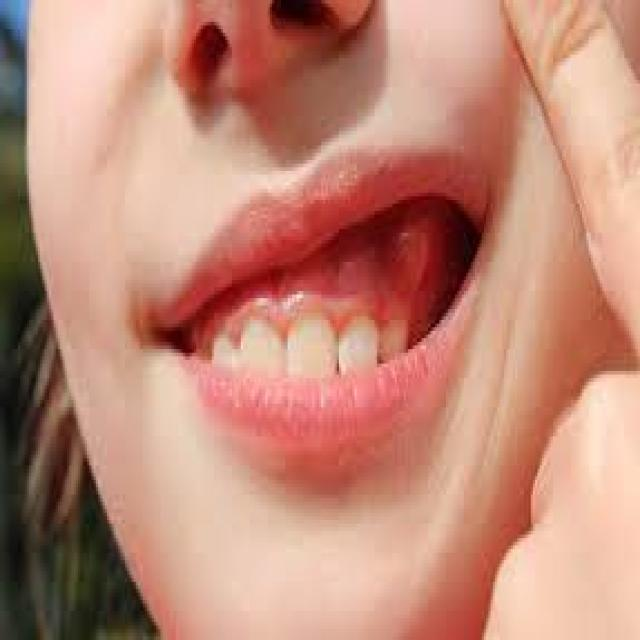abscess: (373, 207, 459, 284)
